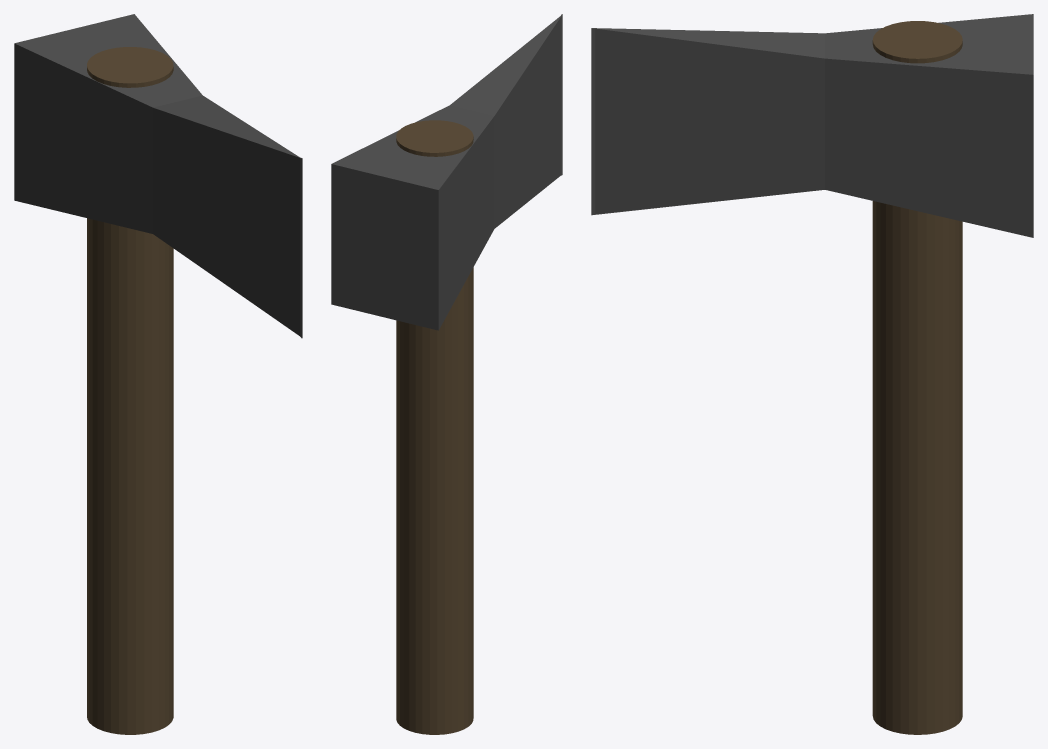
File: Axe.fbx
The picture shows the model from 3 angles, left to right: view 1: azimuth 30°, elevation 25°; view 2: azimuth 150°, elevation 25°; view 3: azimuth 270°, elevation 25°; orthographic projection. The views are drawn at different scales.
Visible parts, largest first — view 1: Cube, Cylinder; view 2: Cube, Cylinder; view 3: Cube, Cylinder.
Boxes of the visible parts, x1,y1,x2,y2 form: Cube: (14, 14, 302, 338); Cylinder: (87, 47, 173, 734); Cube: (331, 14, 562, 330); Cylinder: (396, 120, 473, 734); Cube: (591, 14, 1033, 237); Cylinder: (872, 21, 962, 734).
Size of the model in its own units: 160 by 852 by 492.
